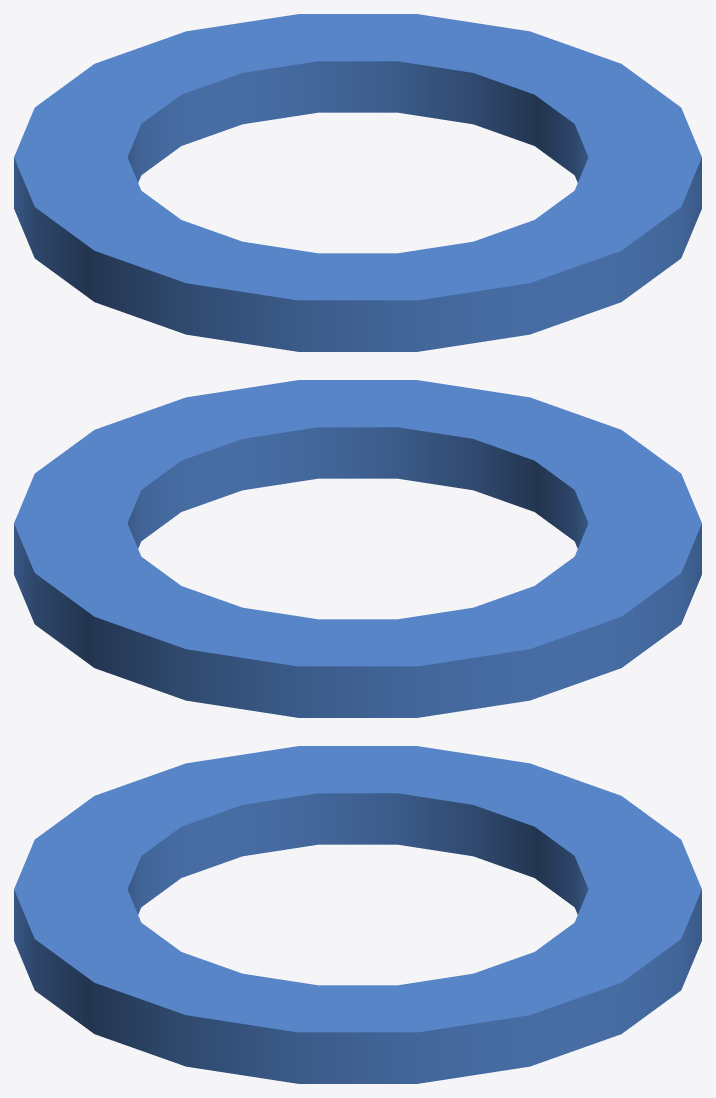
3 views of the same model, one above another, from view 1: azimuth 30°, elevation 25°; view 2: azimuth 150°, elevation 25°; view 3: azimuth 270°, elevation 25° (orthographic).
Parts seen in each view (by area): view 1: Tube001; view 2: Tube001; view 3: Tube001.
Boxes of the visible parts, x1,y1,x2,y2 form: Tube001: (14,14,701,351); Tube001: (14,380,701,717); Tube001: (14,746,701,1083).
Bounding box in the file's own units: 11.94 × 1 × 12.13.
